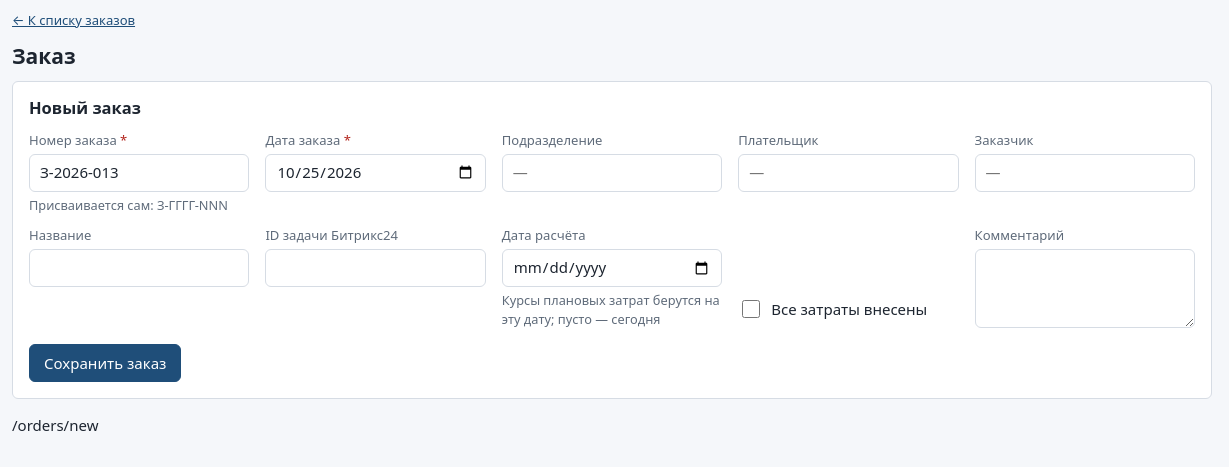
Test case: номер заказа З-ГГГГ-NNN (G33) › неверный вид номера — ошибка у поля
The width and height of the screenshot is (1229, 467).
Replace the text in the field labelled "Номер заказа *" with "А-1" at point(139, 173), box [29, 154, 249, 192]
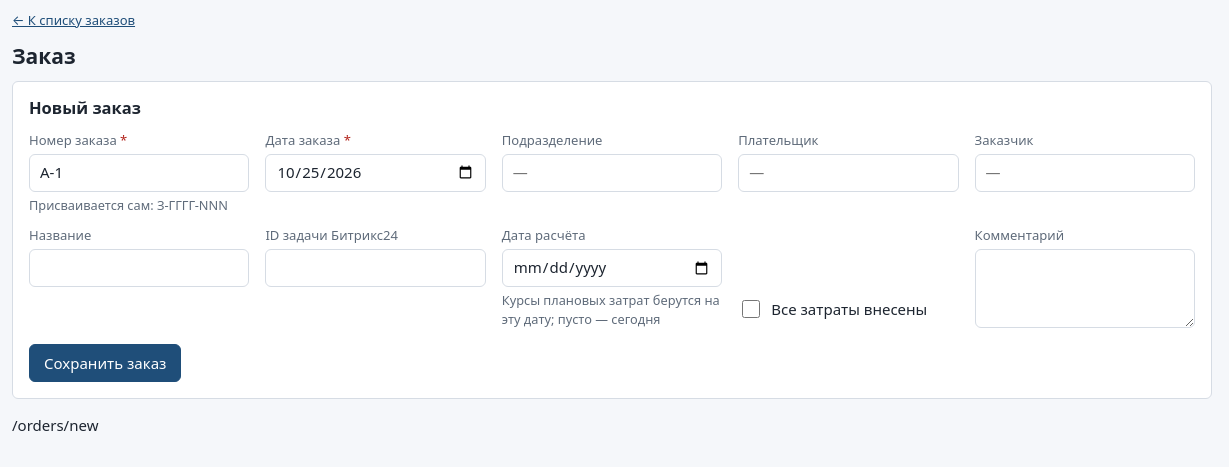
Click the button "Сохранить заказ" at point(105, 363), box [29, 344, 182, 382]
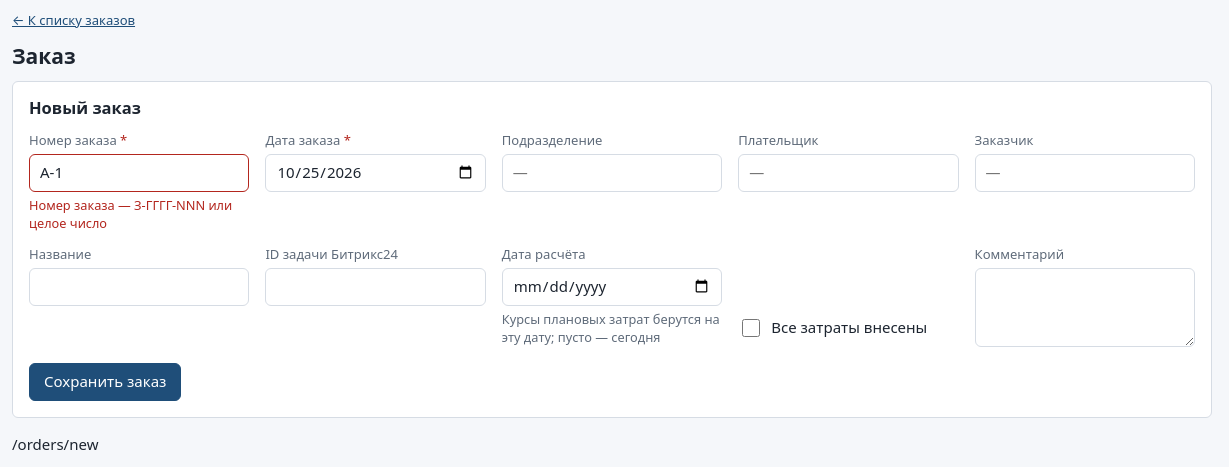
Expected: the text "Номер заказа — З-ГГГГ-NNN или целое число" is shown, [29, 196, 249, 233]
